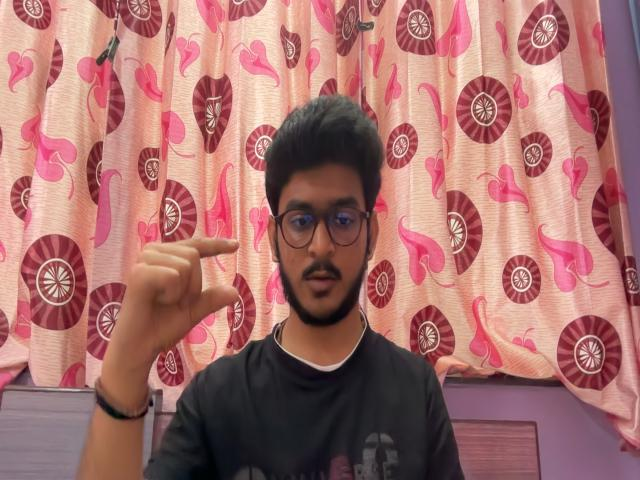No: (90, 224, 249, 401)
